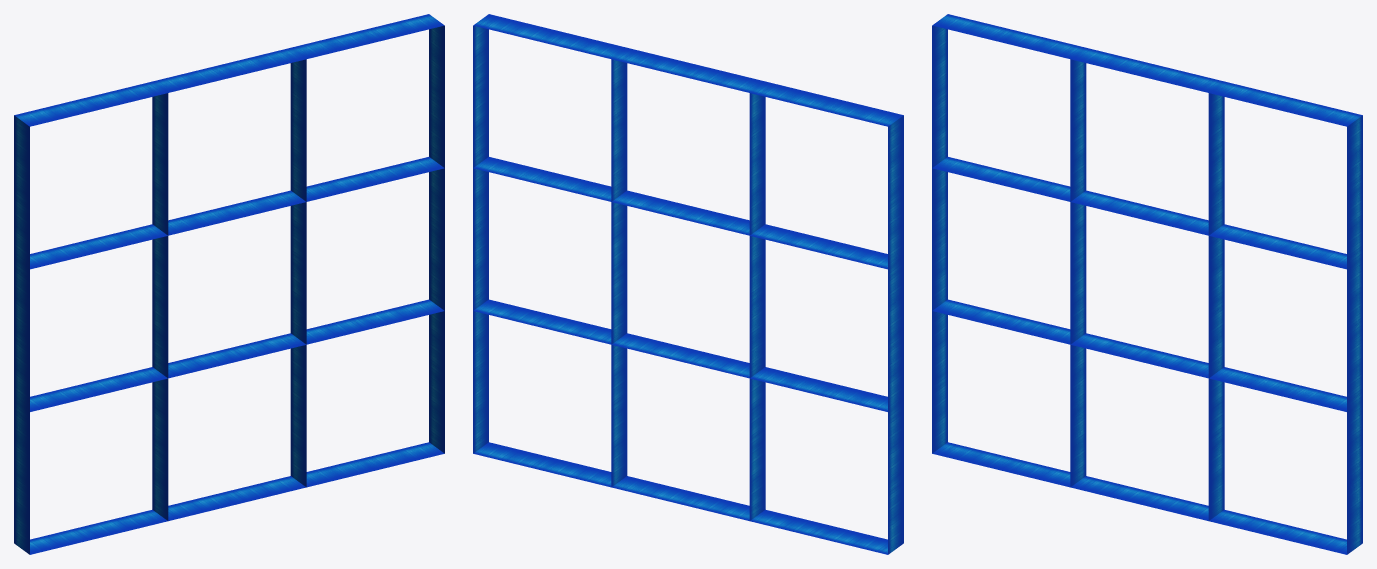
Rendered from tx_shenjie_fuben_03_jiugongge_01.obj.
The picture shows the model from 3 angles, left to right: view 1: azimuth 30°, elevation 25°; view 2: azimuth 150°, elevation 25°; view 3: azimuth 330°, elevation 25°; orthographic projection.
Visible parts, largest first — view 1: Box01; view 2: Box01; view 3: Box01.
Boxes of the visible parts, bbox=[...] form: Box01: bbox=[14, 14, 444, 554]; Box01: bbox=[473, 14, 903, 554]; Box01: bbox=[932, 14, 1362, 554].
Bounding box in the file's own units: 3080 × 3037 × 203.
Materials: 1 (1 with a texture image).
